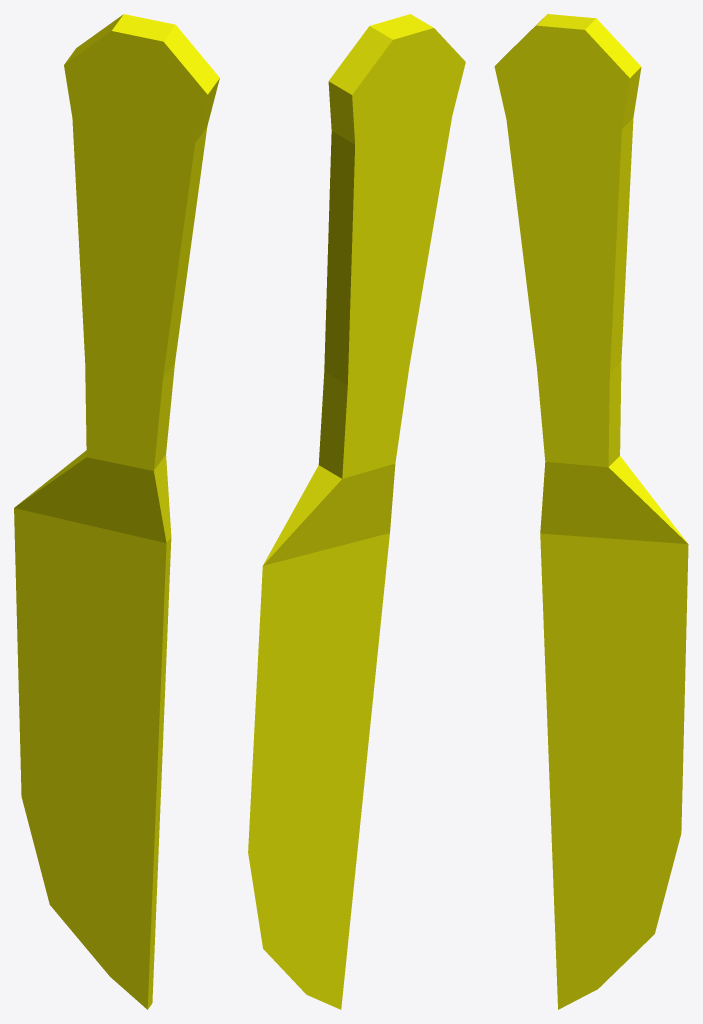
File: Con dao.gltf
3 views of the same model, side by side, from view 1: azimuth 90°, elevation 25°; view 2: azimuth 150°, elevation 25°; view 3: azimuth 270°, elevation 25° (orthographic). The views are drawn at different scales.
Visible parts, largest first — view 1: 1_Cai dao; view 2: 1_Cai dao; view 3: 1_Cai dao.
Part boxes in pixels (<box>): 1_Cai dao: <box>14,14,219,1009</box>; 1_Cai dao: <box>248,14,465,1009</box>; 1_Cai dao: <box>494,14,688,1009</box>.
Bounding box in the file's own units: 0.1852 × 1.41 × 0.2589.
1 material, 1 textured.
